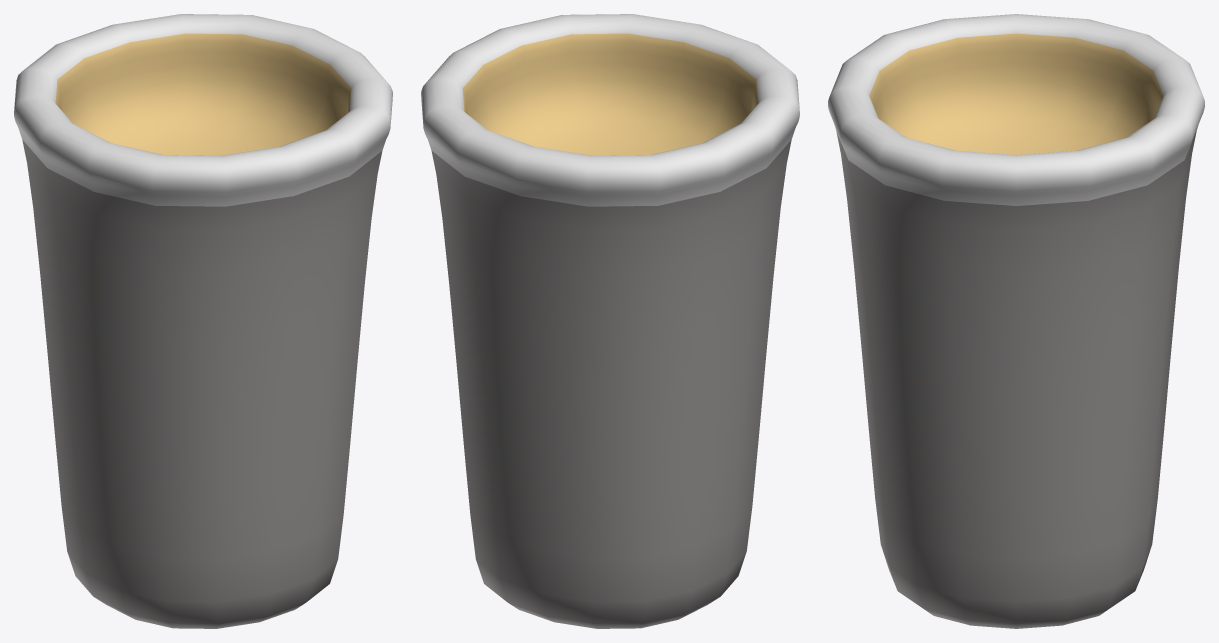
Rendered from cup1-empty2.fbx.
The picture shows the model from 3 angles, left to right: view 1: azimuth 30°, elevation 25°; view 2: azimuth 150°, elevation 25°; view 3: azimuth 270°, elevation 25°; orthographic projection.
Parts seen in each view (by area): view 1: Cube; view 2: Cube; view 3: Cube.
Part boxes in pixels (x1,y1,x2,y2): Cube: (14,14,392,628); Cube: (421,14,799,628); Cube: (828,14,1204,628).
Bounding box in the file's own units: 182 × 267 × 182.
